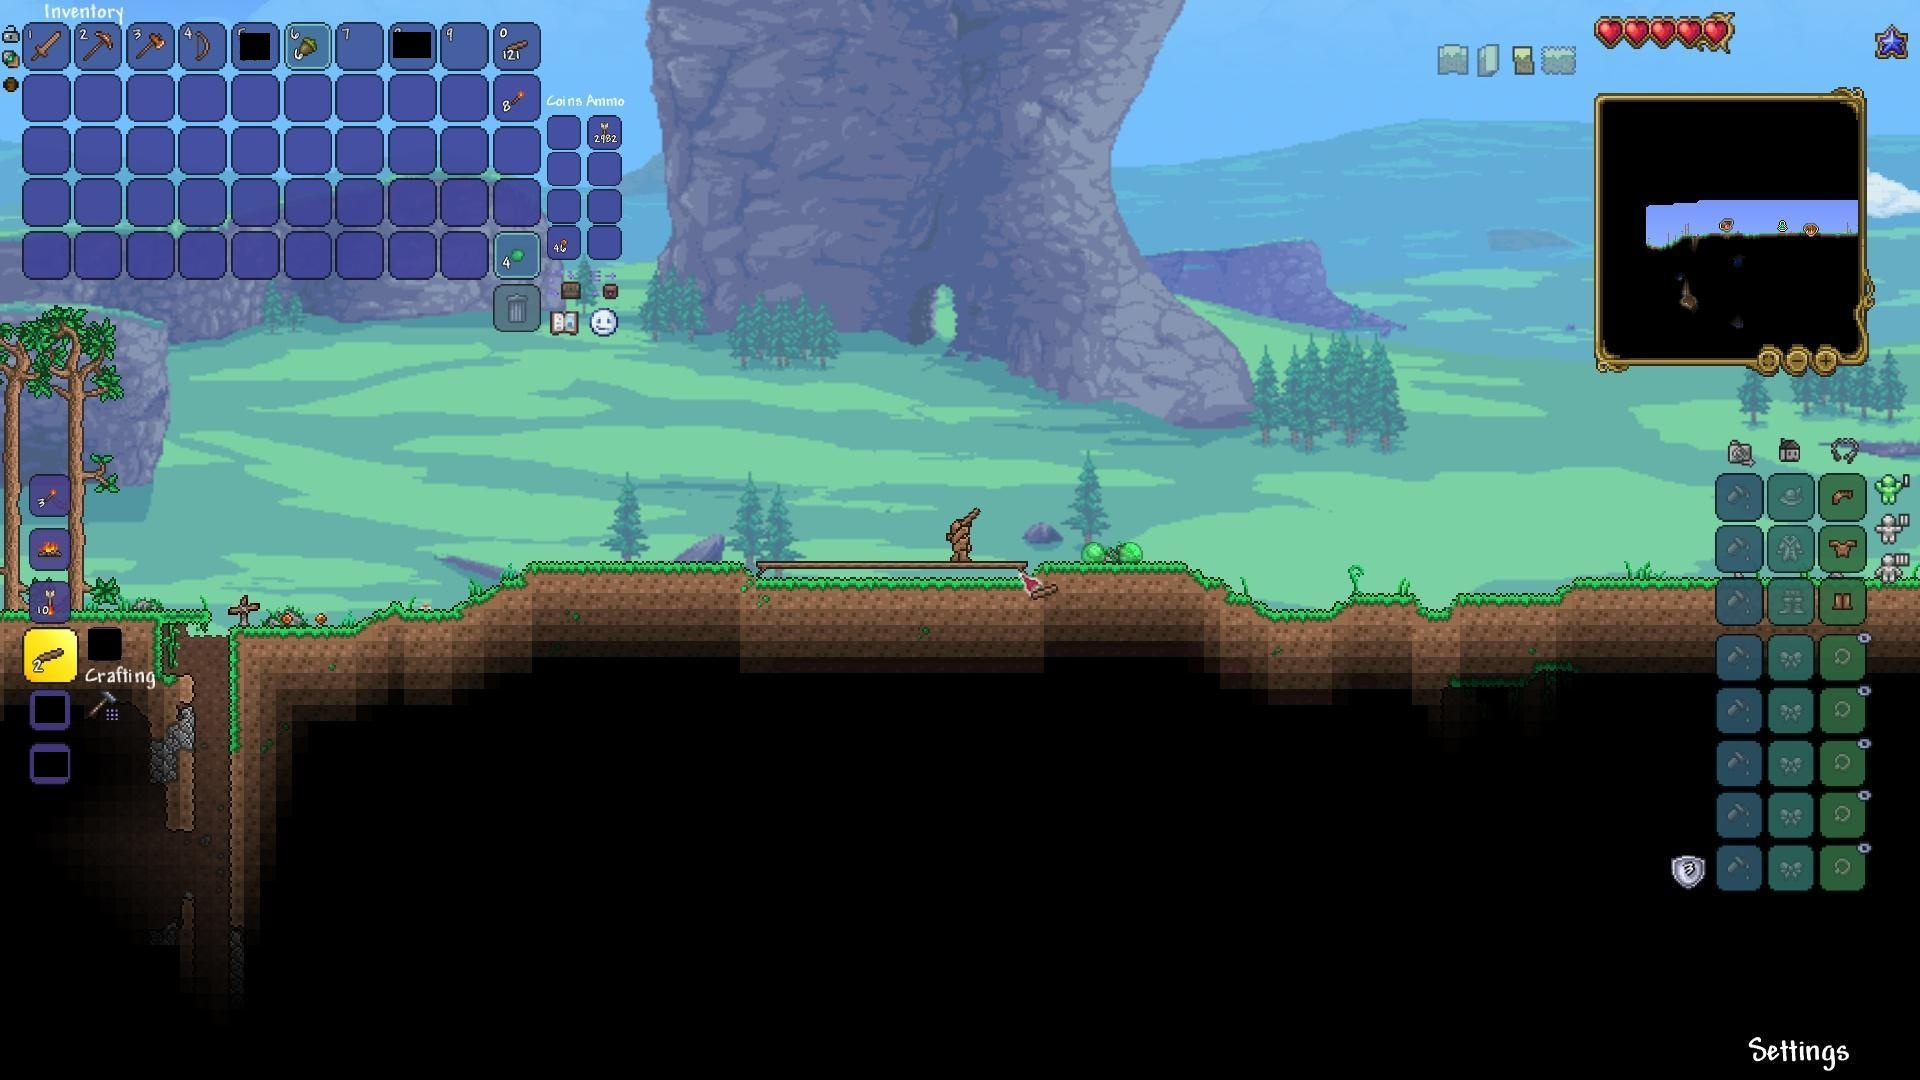breastplate: (1830, 537, 1859, 559)
helmet: (1828, 485, 1857, 510)
legs: (1832, 588, 1857, 616)
slime: (1117, 542, 1142, 570), (1083, 535, 1106, 563)
